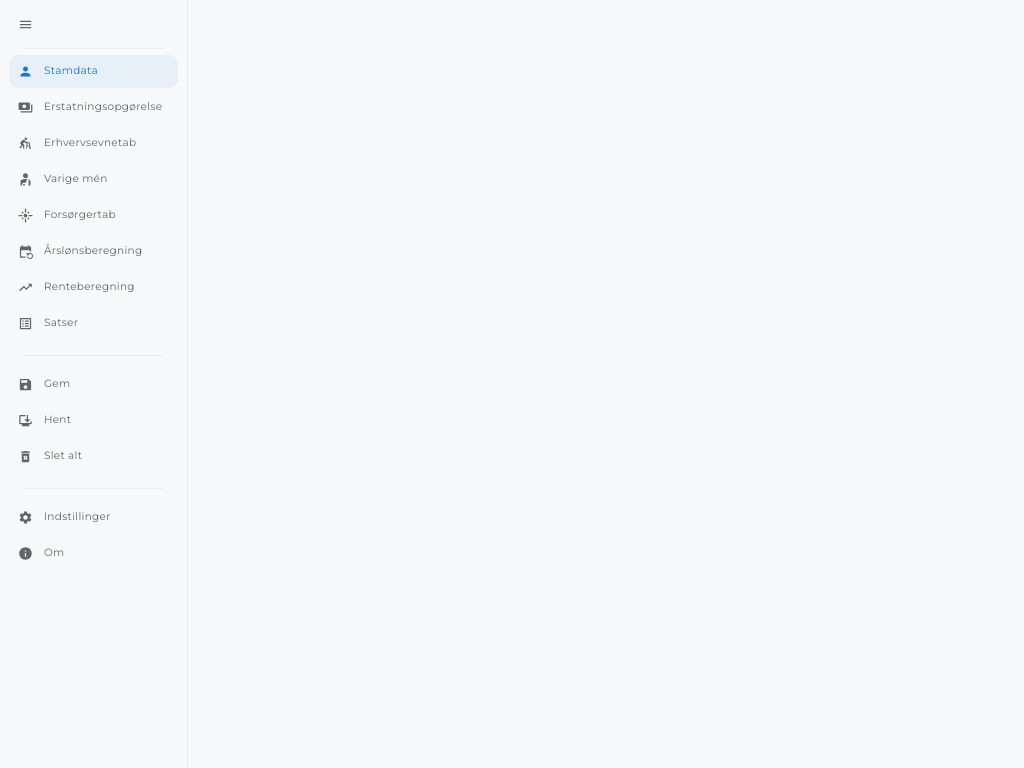
Scenario: MainLayout – filkonflikt ved Gem › viser de tre valg og sender Overskriv videre
Click the button "Gem" at (93, 384), box [9, 368, 178, 401]
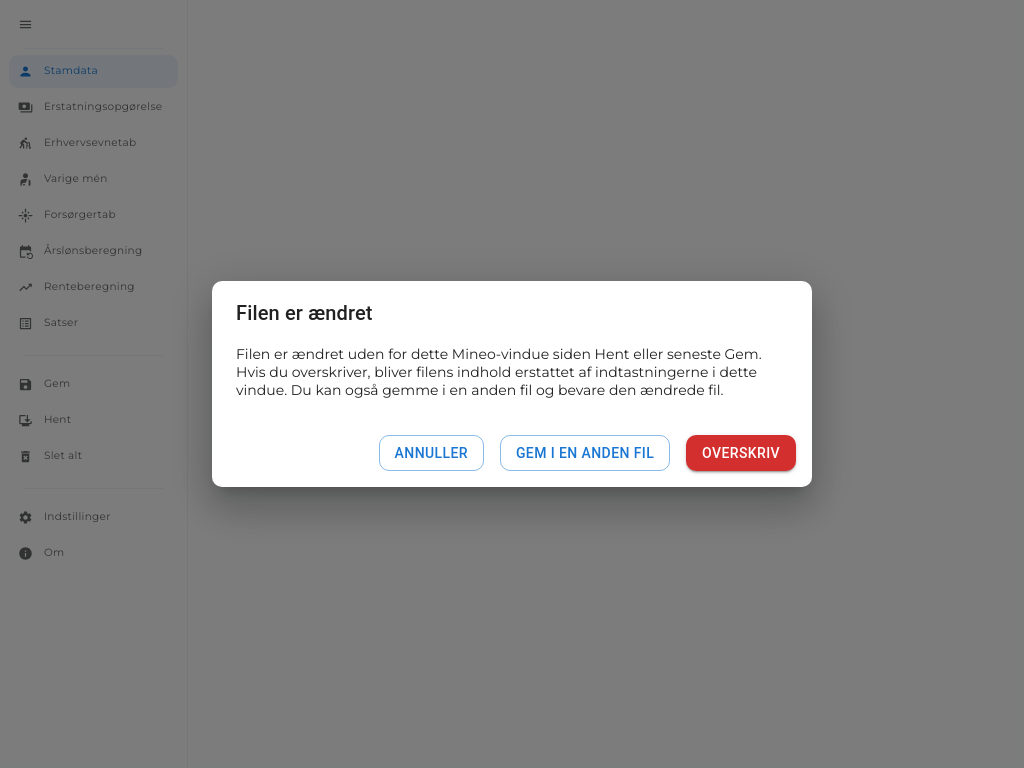
Check: the dialog shows "Filen er ændret", box [236, 301, 373, 325]
Check: the dialog shows "siden Hent eller seneste Gem", box [236, 345, 762, 399]
Check: the button "Annuller" is shown, box [379, 435, 484, 471]
Click the button "Overskriv" at (741, 453), box [686, 435, 796, 471]
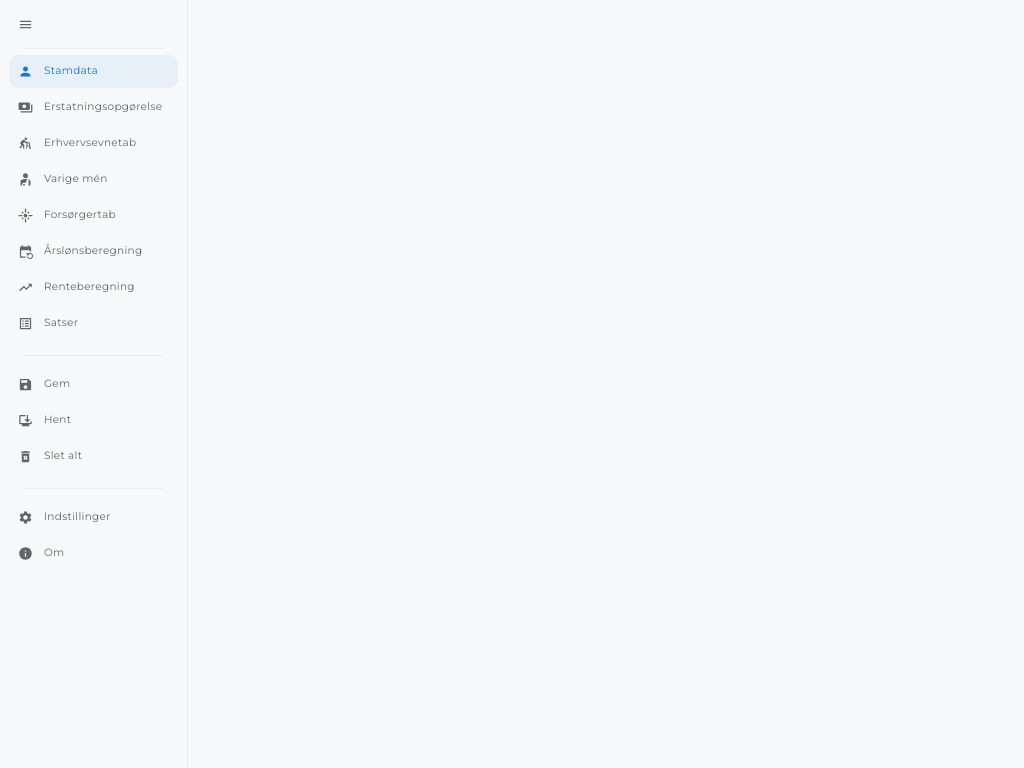
Check: the dialog is gone
